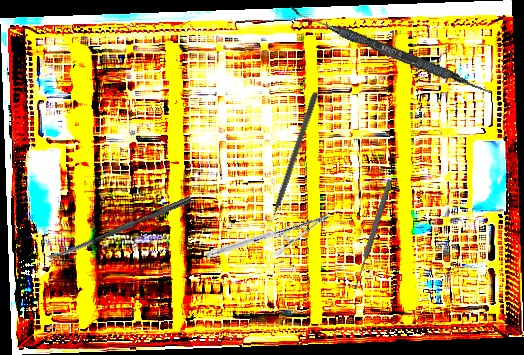Needle Holder: (203, 170, 333, 301)
Pusher: (262, 90, 320, 236)
Spatula Surgical: (285, 6, 497, 97)
Surgical Spoon: (46, 194, 193, 263), (351, 178, 394, 291)
